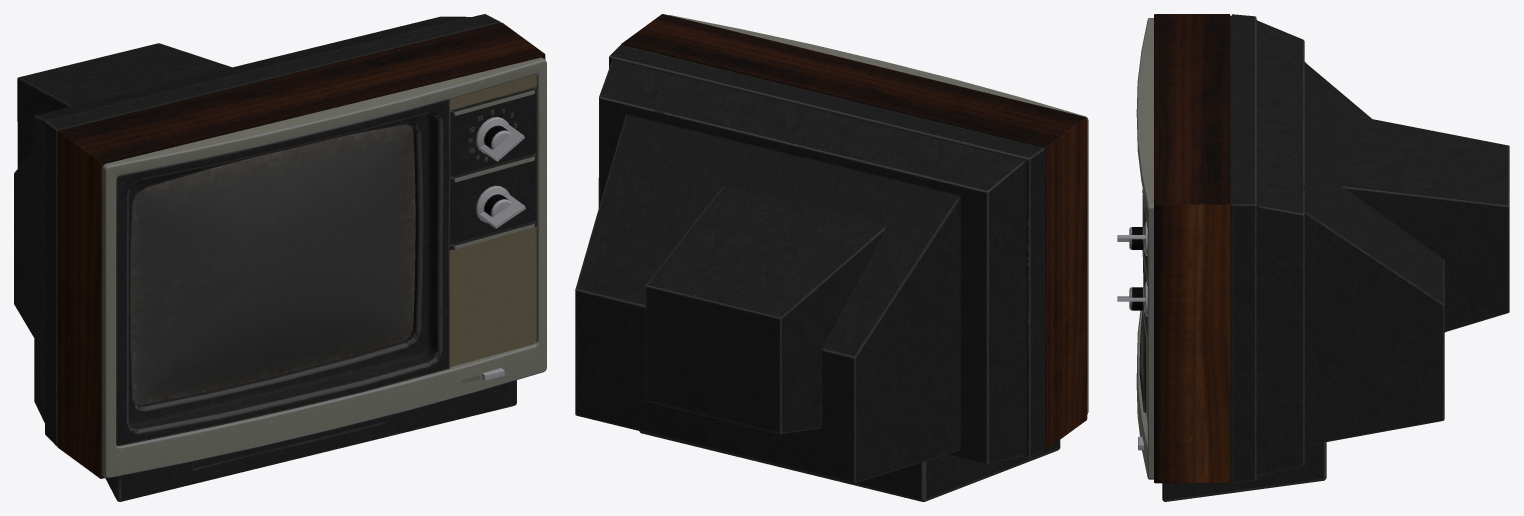
Rendered from old_tv 1.glb.
3 renders of one model, left to right at view 1: azimuth 30°, elevation 25°; view 2: azimuth 150°, elevation 25°; view 3: azimuth 270°, elevation 25°, orthographic. The views are drawn at different scales.
Parts seen in each view (by area): view 1: g (×7); view 2: g (×3); view 3: g (×7).
Part boxes in pixels (<box>): g (×7): <box>14,14,546,501</box>; g (×3): <box>575,14,1088,501</box>; g (×7): <box>1117,14,1509,501</box>.
Bounding box in the file's own units: 2 × 1.5 × 1.74.
1 material, 1 textured.
